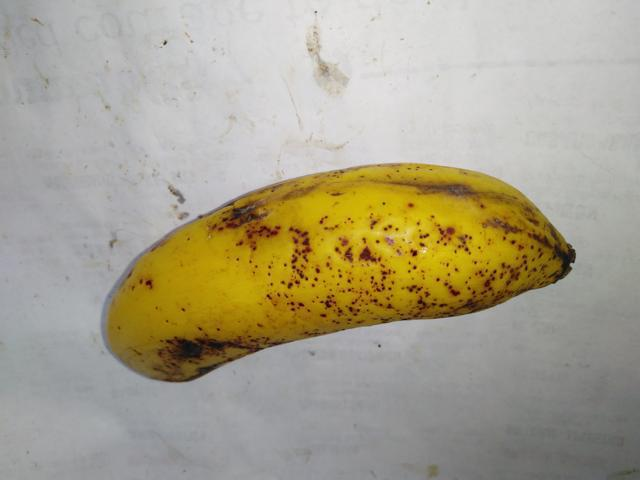rotten: (365, 151, 559, 231), (150, 299, 256, 391), (189, 182, 278, 245)
